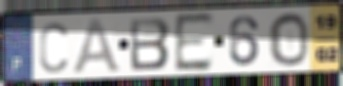6: (228, 14, 262, 68)
A: (70, 17, 124, 75)
B: (128, 16, 172, 73)
C: (38, 19, 70, 75)
E: (173, 10, 216, 75)
O: (266, 11, 311, 68)
